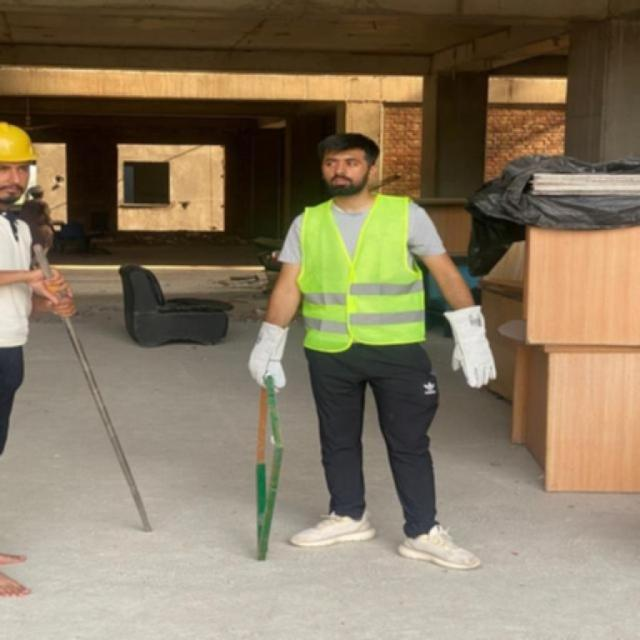Gloves-Detection: (433, 305, 501, 381), (241, 322, 294, 391)
